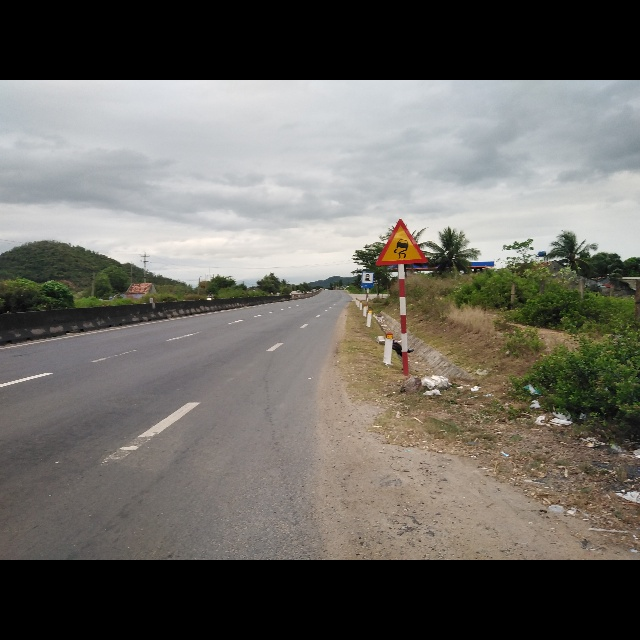Đường trơn trượt: (375, 218, 427, 268)
